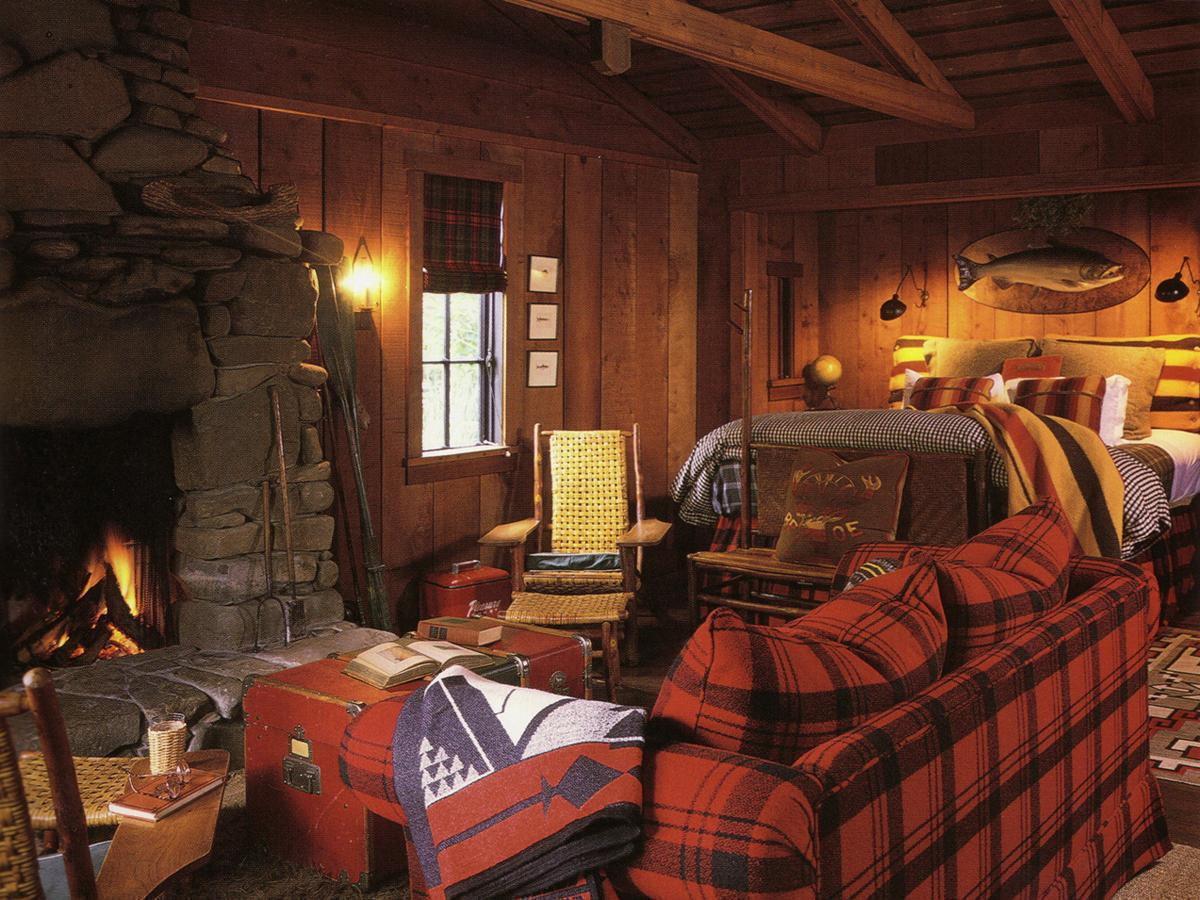Cama: (686, 330, 1190, 630)
Ventana: (415, 156, 515, 457)
